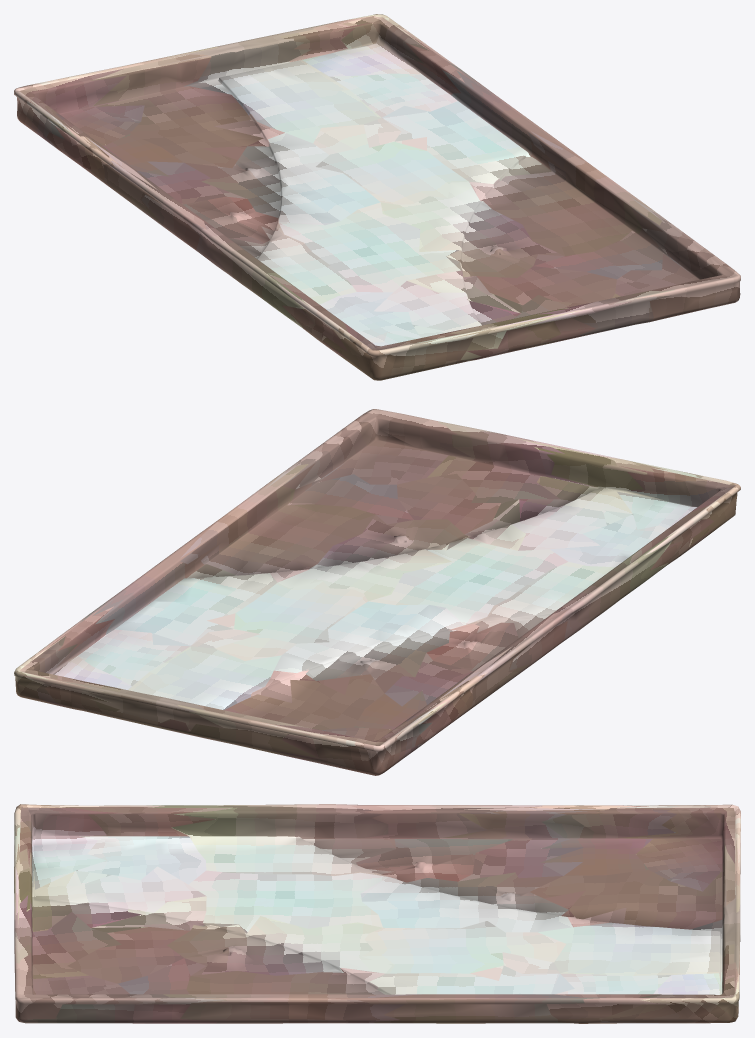
File: JP_사물_s2_prop_tray.glb
The picture shows the model from 3 angles, top to bottom: view 1: azimuth 30°, elevation 25°; view 2: azimuth 150°, elevation 25°; view 3: azimuth 270°, elevation 25°; orthographic projection.
Visible parts, largest first — view 1: tripo_node_d08d5c7b-18d4-4a64-b41d-6a5ddc9445d5; view 2: tripo_node_d08d5c7b-18d4-4a64-b41d-6a5ddc9445d5; view 3: tripo_node_d08d5c7b-18d4-4a64-b41d-6a5ddc9445d5.
Part boxes in pixels (x1,y1,x2,y2): tripo_node_d08d5c7b-18d4-4a64-b41d-6a5ddc9445d5: [14, 14, 740, 380]; tripo_node_d08d5c7b-18d4-4a64-b41d-6a5ddc9445d5: [14, 409, 740, 775]; tripo_node_d08d5c7b-18d4-4a64-b41d-6a5ddc9445d5: [14, 804, 740, 1023].
Size of the model in its own units: 0.5948 by 0.0652 by 0.9998.
1 material, 1 textured.
